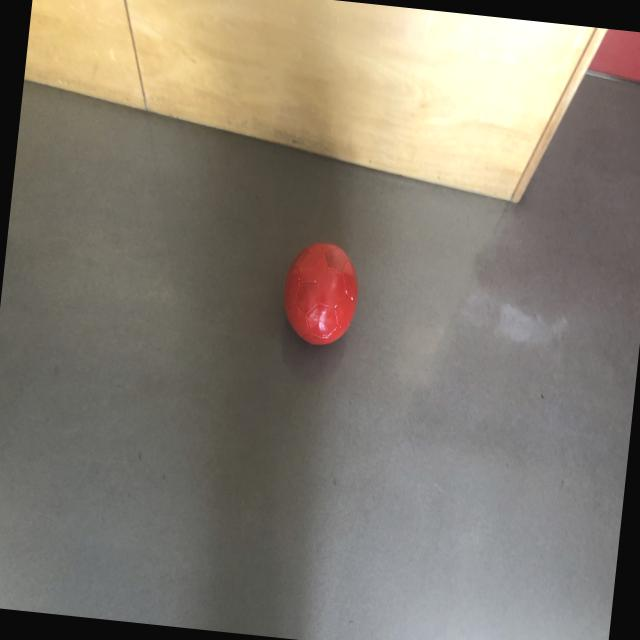red_ball: (278, 237, 362, 351)
